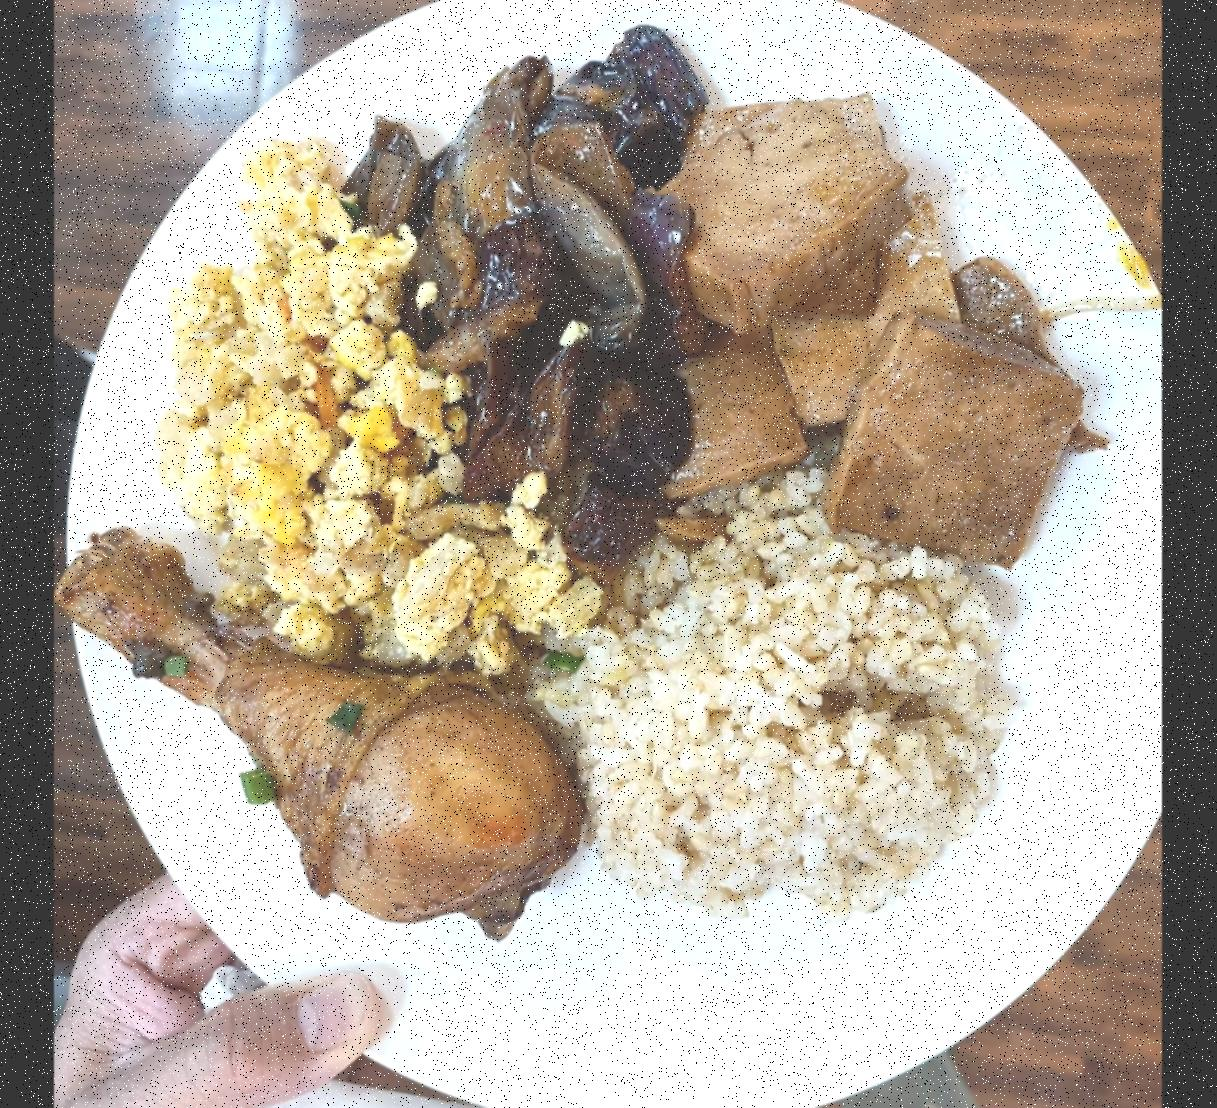brown rice: (568, 523, 998, 906)
plate: (54, 0, 1152, 1108)
side dish: (662, 99, 1078, 526), (382, 41, 658, 515), (188, 173, 450, 620)
small grilled chicken leg: (87, 620, 559, 925)
